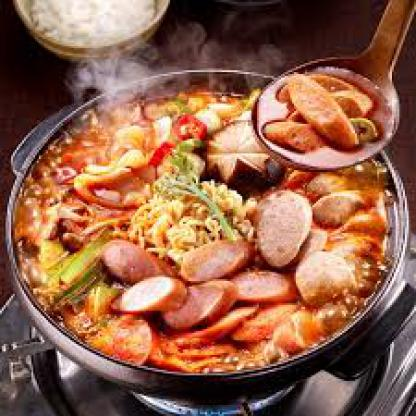budaejjigae: (20, 85, 402, 370)
rice ball: (24, 0, 170, 52)
